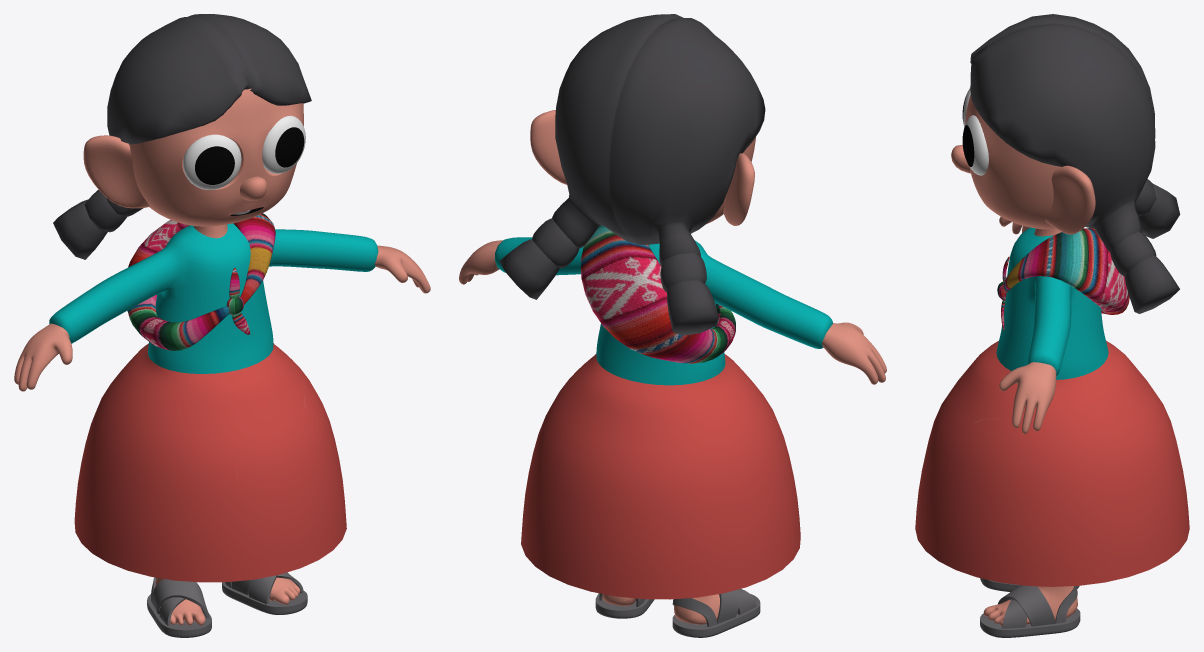
File: WaraPlaceholder.fbx
3 views of the same model, side by side, from view 1: azimuth 30°, elevation 25°; view 2: azimuth 150°, elevation 25°; view 3: azimuth 270°, elevation 25° (orthographic). The views are drawn at different scales.
Visible parts, largest first — view 1: Pollera, Cube.003, Cylinder.001, Cube.001, Cube.008, Sphere, Cylinder.002, Cube.002, Cube, Piernas; view 2: Pollera, Cube.003, Cube.008, Cylinder.001, Cylinder.002, Cube.002, Cube, Piernas; view 3: Pollera, Cube.003, Cylinder.001, Cube.008, Cube.001, Cylinder.002, Cube.002, Cube, Sphere, Piernas.
Part boxes in pixels (left/top/right/bottom): Pollera: left=74, top=343, right=346, bottom=582; Cube.003: left=53, top=14, right=311, bottom=259; Cylinder.001: left=49, top=223, right=378, bottom=373; Cube.001: left=129, top=88, right=303, bottom=238; Cube.008: left=127, top=213, right=275, bottom=350; Sphere: left=183, top=115, right=305, bottom=189; Cylinder.002: left=147, top=572, right=307, bottom=637; Cube.002: left=14, top=245, right=430, bottom=391; Cube: left=83, top=135, right=149, bottom=208; Piernas: left=155, top=577, right=300, bottom=625; Pollera: left=521, top=354, right=800, bottom=599; Cube.003: left=499, top=14, right=765, bottom=335; Cube.008: left=580, top=225, right=735, bottom=363; Cylinder.001: left=495, top=237, right=832, bottom=385; Cylinder.002: left=595, top=589, right=760, bottom=637; Cube.002: left=459, top=240, right=886, bottom=384; Cube: left=530, top=110, right=754, bottom=225; Piernas: left=602, top=594, right=719, bottom=624; Pollera: left=915, top=341, right=1189, bottom=586; Cube.003: left=970, top=14, right=1180, bottom=313; Cylinder.001: left=996, top=227, right=1108, bottom=379; Cube.008: left=997, top=228, right=1129, bottom=330; Cube.001: left=965, top=94, right=1061, bottom=236; Cylinder.002: left=980, top=578, right=1080, bottom=637; Cube.002: left=999, top=217, right=1056, bottom=433; Cube: left=1044, top=165, right=1095, bottom=234; Sphere: left=962, top=88, right=988, bottom=175; Piernas: left=983, top=586, right=1077, bottom=625.
Bounding box in the file's own units: 103 × 140 × 59.65.
Materials: 8 (2 with a texture image).
